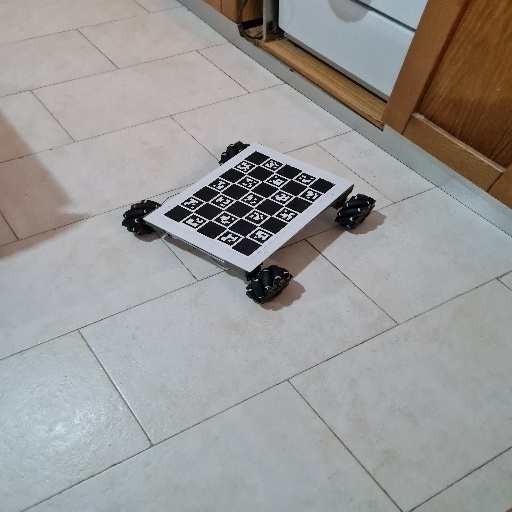Omniwheel: (122, 142, 378, 303)
